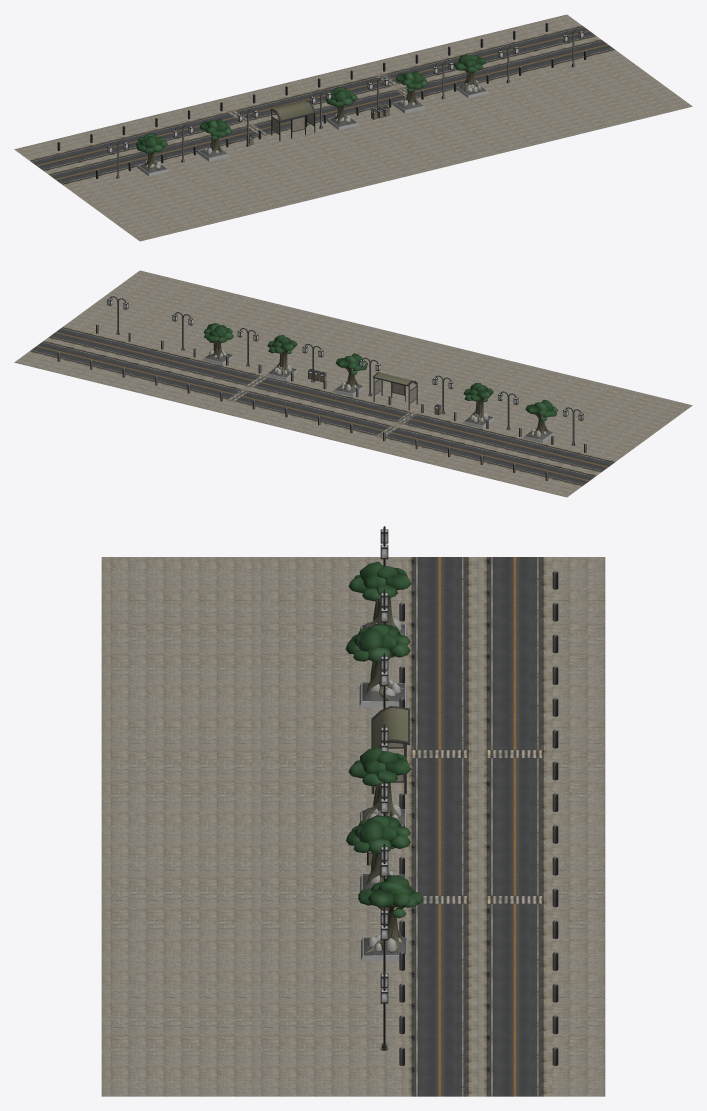
File: Supplier_Road.fbx
3 views of the same model, one above another, from view 1: azimuth 30°, elevation 25°; view 2: azimuth 150°, elevation 25°; view 3: azimuth 270°, elevation 25° (orthographic). The views are drawn at different scales.
Visible parts, largest first — view 1: new_supplier_road; view 2: new_supplier_road; view 3: new_supplier_road.
Part boxes in pixels (<box>): new_supplier_road: <box>14,14,692,241</box>; new_supplier_road: <box>14,270,692,497</box>; new_supplier_road: <box>101,526,605,1096</box>.
Size of the model in its own units: 17 by 1.09 by 6.7.
